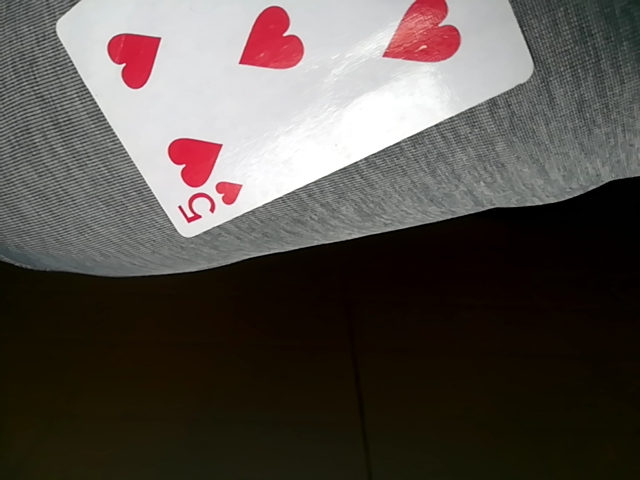hx 5: (55, 2, 545, 239)
